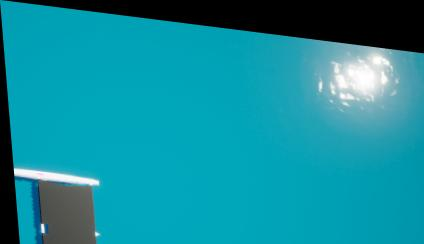boat: (11, 165, 107, 244)
drone: (34, 178, 93, 244)
land_base: (300, 30, 424, 131)
